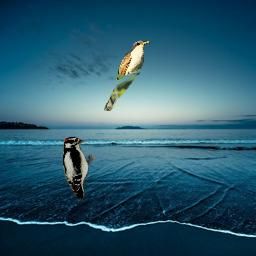Cuckoo: (103, 39, 151, 112)
Woodpecker: (63, 137, 95, 200)
